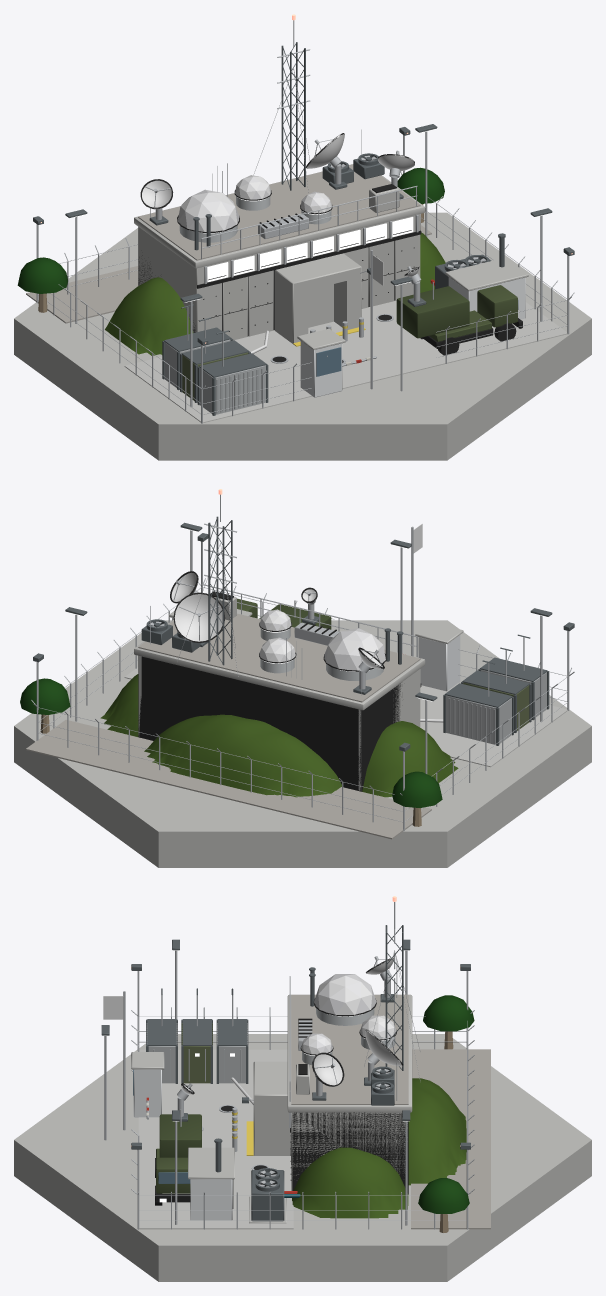
Rendered from fusionCell.glb.
3 views of the same model, one above another, from view 1: azimuth 30°, elevation 25°; view 2: azimuth 150°, elevation 25°; view 3: azimuth 270°, elevation 25° (orthographic).
Visible parts, largest first — view 1: wall_concrete, paint, pavers, metal, gravel, steel_dark, turf, dark, leaf, cladding, glow_cyan, glow_dim (+1 smaller); view 2: wall_concrete, gravel, turf, dark, paint, metal, steel_dark, pavers, leaf, cladding; view 3: wall_concrete, gravel, turf, paint, pavers, steel_dark, metal, dark, cladding, leaf, banner.
Part boxes in pixels (<box>): wall_concrete: <box>14,164,591,460</box>; paint: <box>142,134,517,414</box>; pavers: <box>124,300,567,422</box>; metal: <box>36,20,574,423</box>; gravel: <box>26,164,431,323</box>; steel_dark: <box>33,42,574,415</box>; turf: <box>105,232,445,355</box>; dark: <box>138,133,522,362</box>; leaf: <box>17,167,444,293</box>; cladding: <box>300,277,525,397</box>; glow_cyan: <box>199,197,413,282</box>; glow_dim: <box>233,229,360,275</box>; wall_concrete: <box>14,596,591,867</box>; gravel: <box>26,613,431,839</box>; turf: <box>100,674,458,797</box>; dark: <box>138,571,421,791</box>; paint: <box>171,572,546,744</box>; metal: <box>31,494,574,831</box>; steel_dark: <box>33,516,574,751</box>; pavers: <box>124,667,567,767</box>; leaf: <box>20,678,442,807</box>; cladding: <box>172,618,460,691</box>; wall_concrete: <box>14,994,591,1281</box>; gravel: <box>291,994,490,1229</box>; turf: <box>292,1078,466,1218</box>; paint: <box>146,957,402,1197</box>; pavers: <box>138,1049,293,1229</box>; steel_dark: <box>101,925,470,1221</box>; metal: <box>104,902,474,1229</box>; dark: <box>155,958,408,1208</box>; cladding: <box>133,1069,232,1220</box>; leaf: <box>418,995,474,1213</box>; banner: <box>103,996,123,1019</box>.
Bounding box in the file's own units: 21.3 × 13.95 × 24.6.
